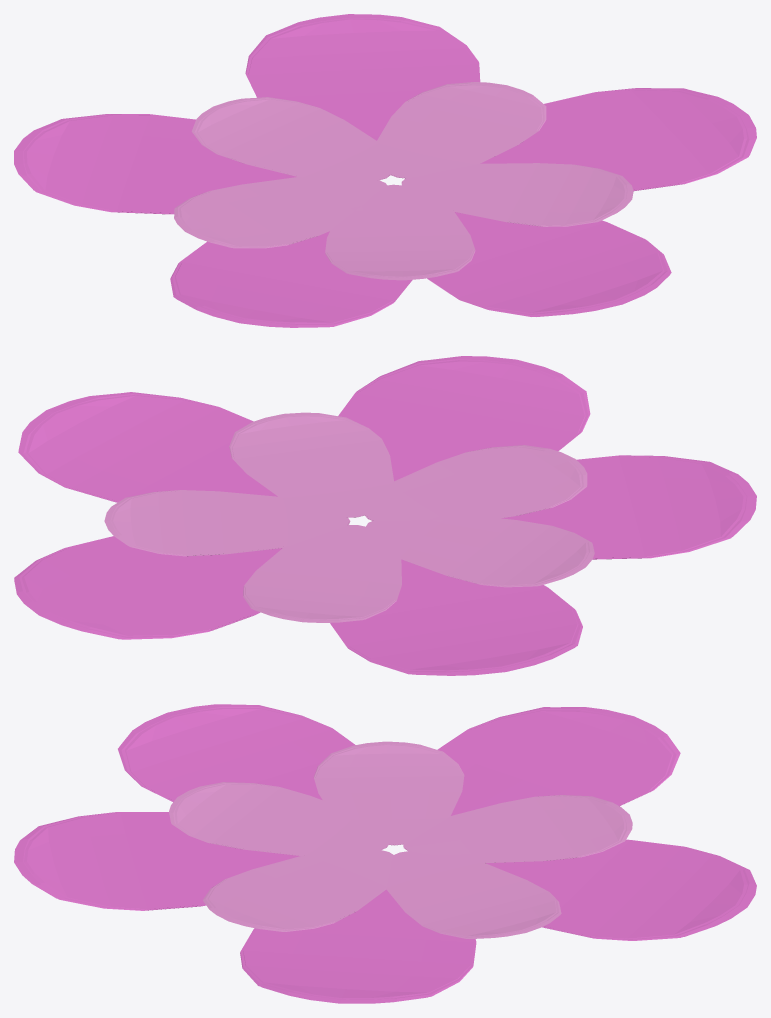
The model's file is rug.fbx.
The picture shows the model from 3 angles, top to bottom: view 1: azimuth 30°, elevation 25°; view 2: azimuth 150°, elevation 25°; view 3: azimuth 270°, elevation 25°; orthographic projection. The views are drawn at different scales.
Visible parts, largest first — view 1: Plane.001; view 2: Plane.001; view 3: Plane.001.
Boxes of the visible parts, x1,y1,x2,y2 form: Plane.001: (14, 14, 756, 327); Plane.001: (14, 356, 756, 675); Plane.001: (14, 704, 756, 1003).
Bounding box in the file's own units: 410 × 4.24 × 428.
